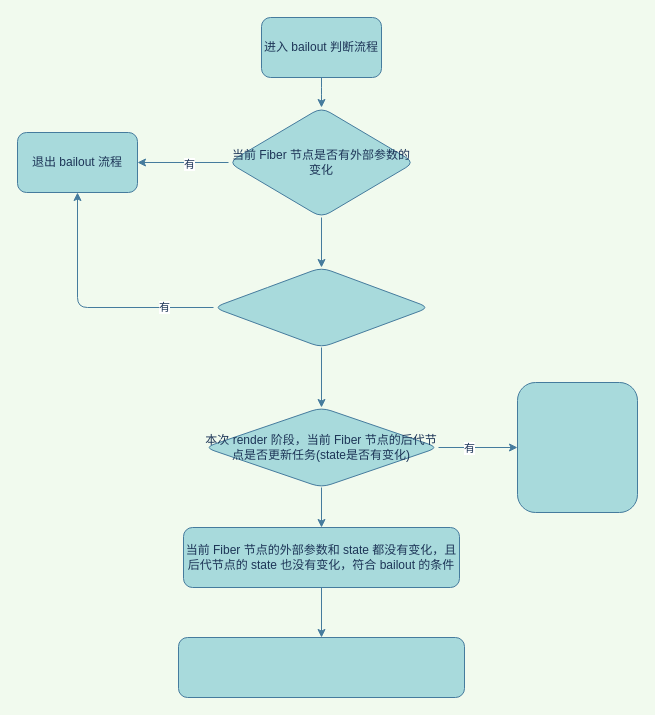
The diagram is 655 pixels wide and 715 high, and some of its shapes have lost their labels. Here are the shapes that lost their labels. From the top down, the centre of each, then its label:
the point at 321,307: 本次 render 阶段，当前 Fiber 节点是否更新任务(state是否有变化)
the point at 577,447: 当前 Fiber 节点的外部参数和 state 都没有变化，因此可以复用当前 Fiber 节点的 Fiber 子节点
the point at 321,667: beginWork 阶段返回 null ，进入当前 Fiber 节点的 completeWork 阶段，不再遍历后代节点
